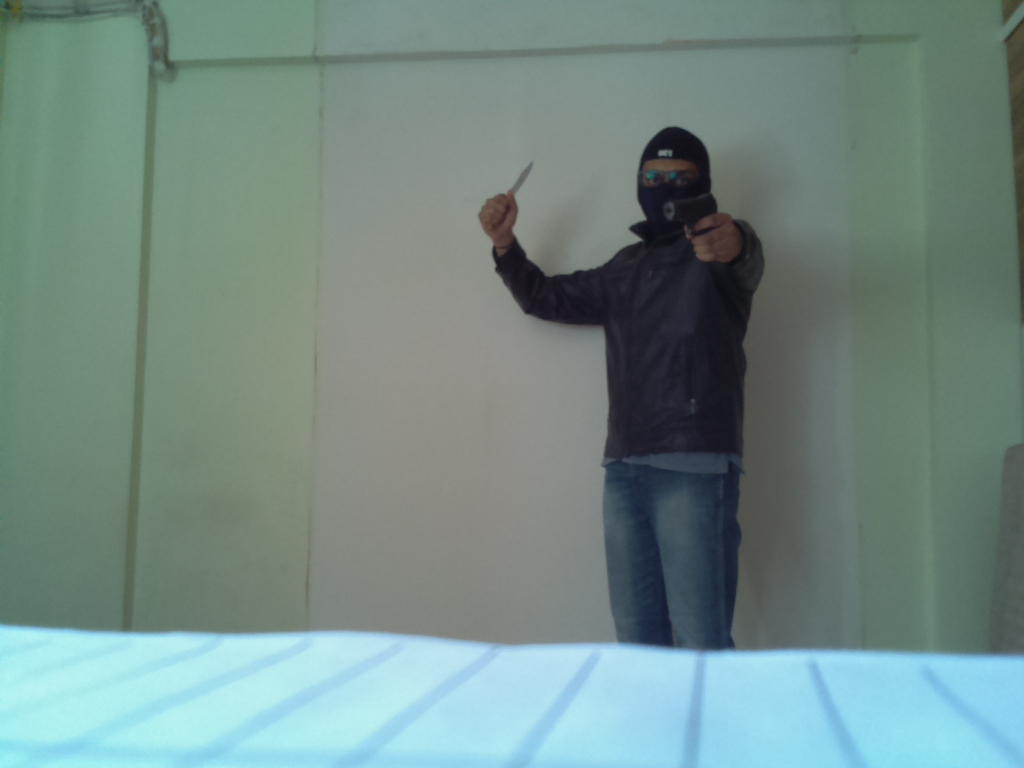gun: (663, 195, 720, 257)
knife: (495, 157, 539, 219)
